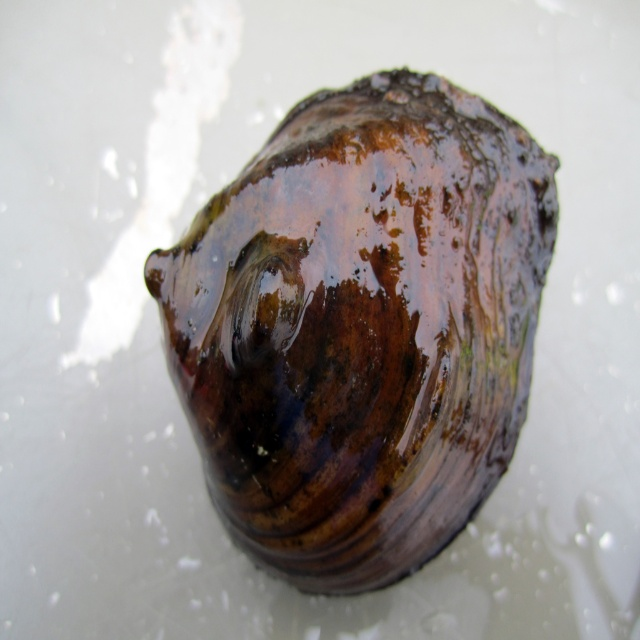Snail: (130, 73, 574, 611)
